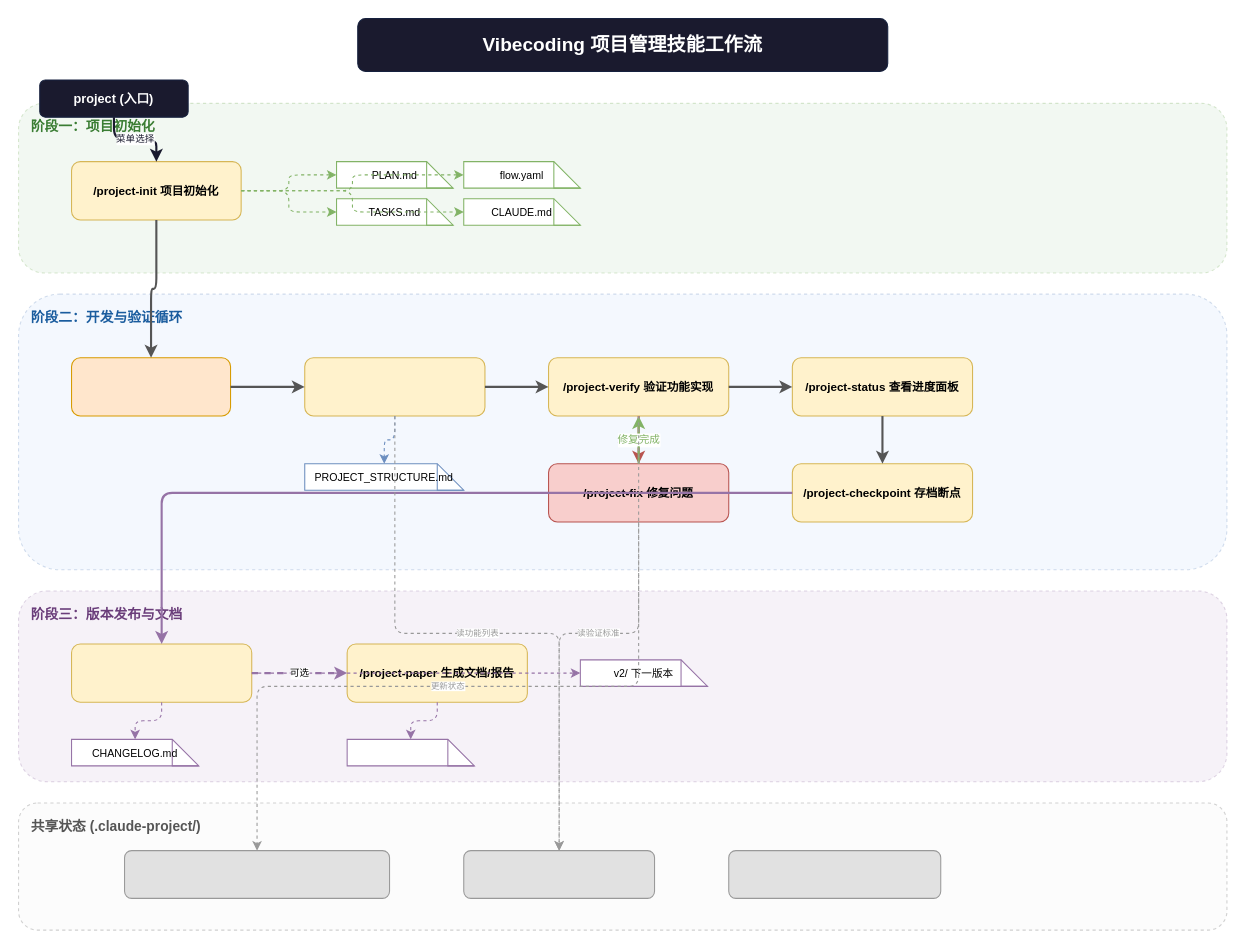
Some shapes in this 1245 by 949 pixel diagram are drawn without their labels. Here are the shapes that lost their labels. From the top down, the box of each, then its label:
(70, 357, 231, 416): ✍ 编写代码 (用户实施)
(304, 357, 485, 416): /project-structure 扫描项目结构
(70, 643, 252, 702): /project-version 封版发布
(346, 738, 474, 766): PAPER.md
(123, 850, 390, 898): state.json 版本 / 验证状态 / 文件快照
(463, 850, 655, 898): flow.yaml 功能注册表
(728, 850, 941, 898): v1/ v2/ ... (版本文件夹)
